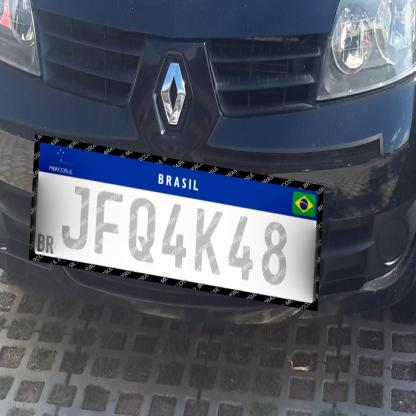PlacaM: (29, 134, 324, 311)
